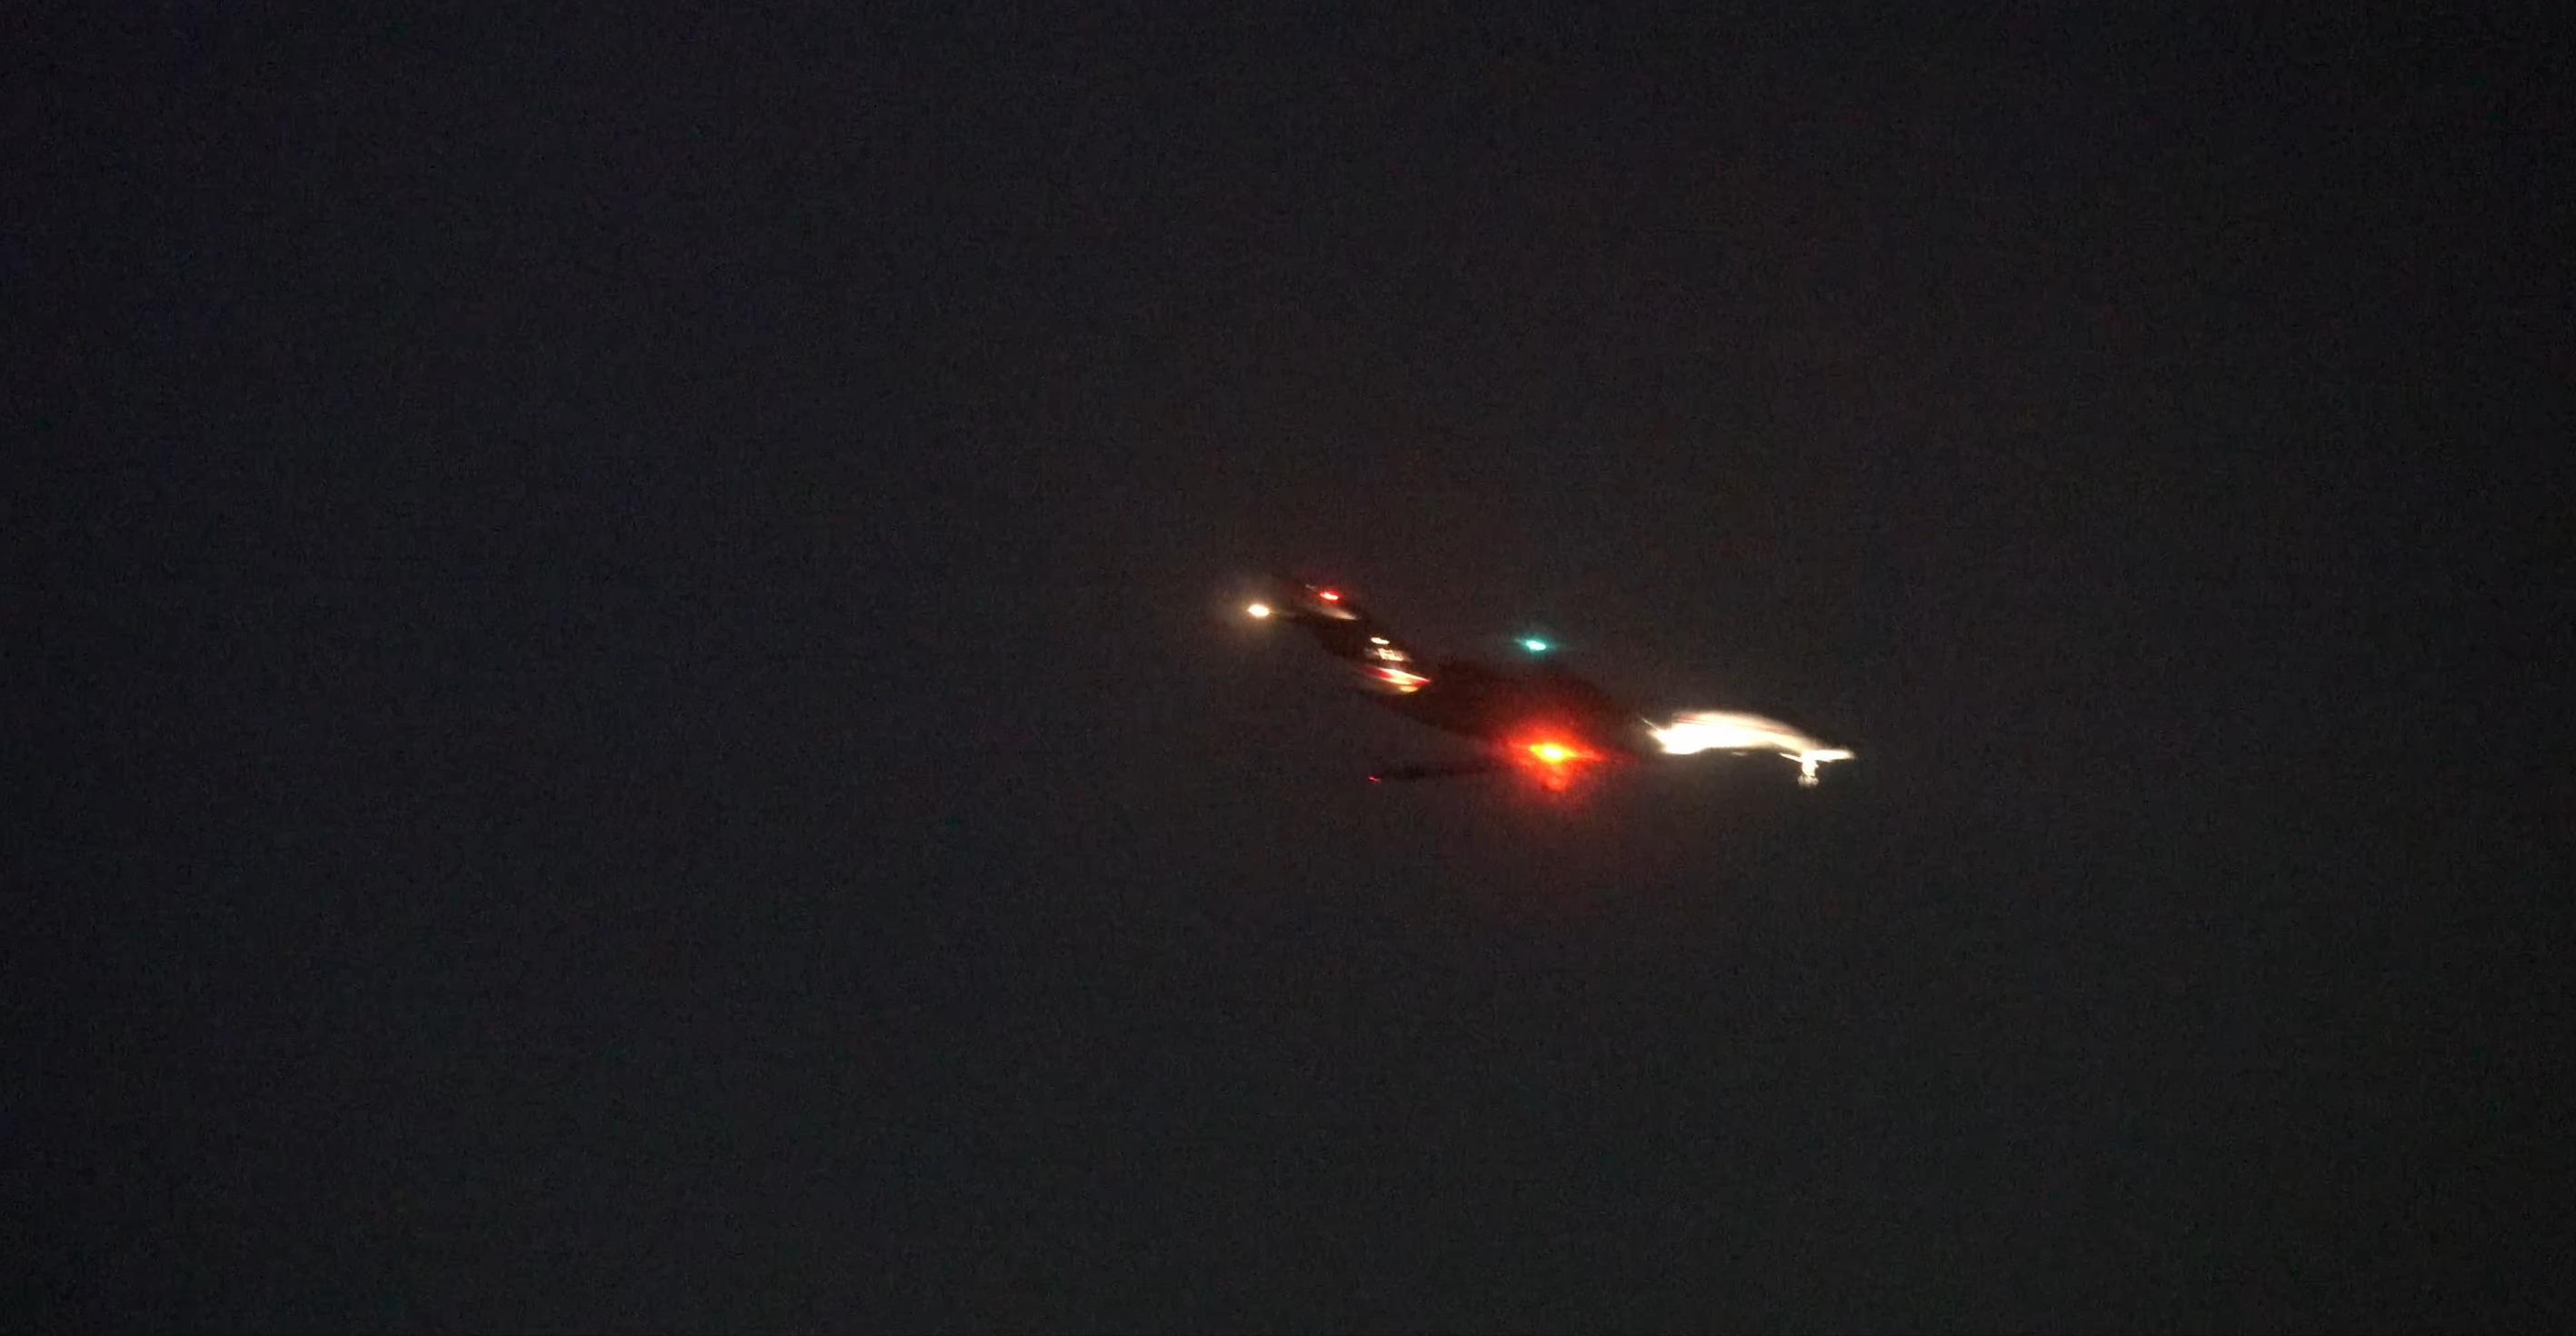Plane: (1377, 549, 1854, 832)
